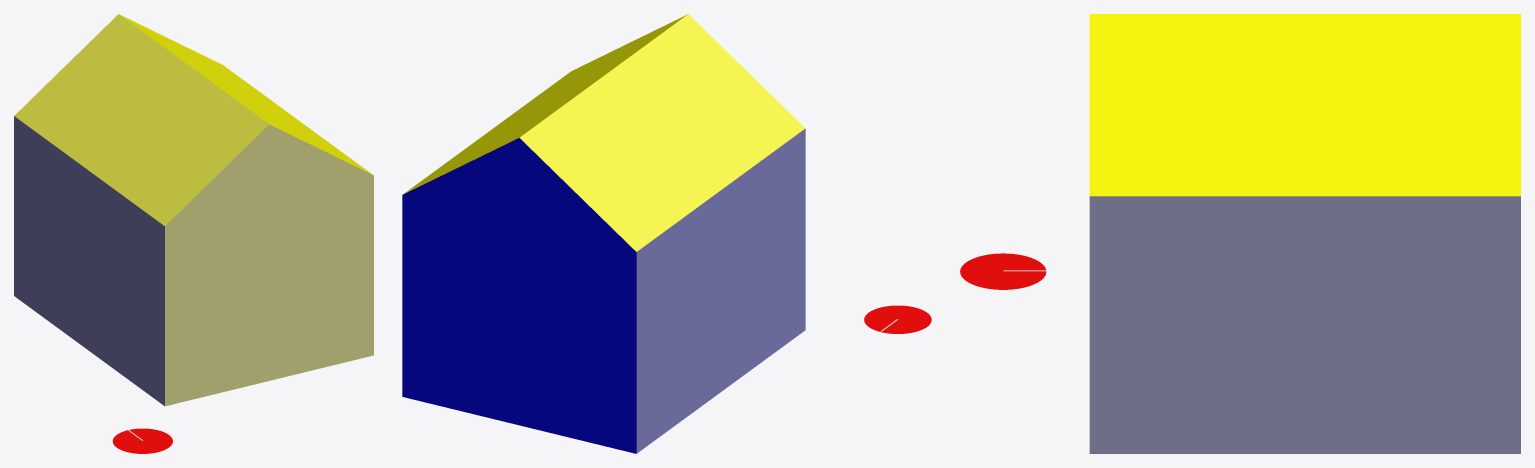
File: result.glb
3 renders of one model, left to right at view 1: azimuth 30°, elevation 25°; view 2: azimuth 150°, elevation 25°; view 3: azimuth 270°, elevation 25°, orthographic. The views are drawn at different scales.
Parts seen in each view (by area): view 1: eb8a7a4b-dcf3-4434-8c5f-c90fac38c3a5__undefined, 21fba045-0c0c-4ac3-8273-d1c0692a909c__undefined, 66b44411-12a8-42d2-9d8c-b952602b70ae__undefined, d56c3455-8726-4a6e-92ce-e7a701f5f81c__undefined, 375bd59d-8618-48ff-823e-e719947021c7__Circle; view 2: e266c11a-3aa3-40e5-b649-d61cb92e7492__undefined, 21fba045-0c0c-4ac3-8273-d1c0692a909c__undefined, 66b44411-12a8-42d2-9d8c-b952602b70ae__undefined, d56c3455-8726-4a6e-92ce-e7a701f5f81c__undefined, 375bd59d-8618-48ff-823e-e719947021c7__Circle; view 3: bd1a2907-eeed-4ebe-ba7a-02703369f2ff__undefined, d56c3455-8726-4a6e-92ce-e7a701f5f81c__undefined, 375bd59d-8618-48ff-823e-e719947021c7__Circle.
Part boxes in pixels (<box>): eb8a7a4b-dcf3-4434-8c5f-c90fac38c3a5__undefined: <box>165,124,373,406</box>; 21fba045-0c0c-4ac3-8273-d1c0692a909c__undefined: <box>14,116,164,405</box>; 66b44411-12a8-42d2-9d8c-b952602b70ae__undefined: <box>14,14,268,225</box>; d56c3455-8726-4a6e-92ce-e7a701f5f81c__undefined: <box>119,14,372,174</box>; 375bd59d-8618-48ff-823e-e719947021c7__Circle: <box>112,428,172,453</box>; e266c11a-3aa3-40e5-b649-d61cb92e7492__undefined: <box>402,138,636,453</box>; 21fba045-0c0c-4ac3-8273-d1c0692a909c__undefined: <box>636,128,805,453</box>; 66b44411-12a8-42d2-9d8c-b952602b70ae__undefined: <box>519,14,805,251</box>; d56c3455-8726-4a6e-92ce-e7a701f5f81c__undefined: <box>403,14,687,194</box>; 375bd59d-8618-48ff-823e-e719947021c7__Circle: <box>864,305,931,333</box>; bd1a2907-eeed-4ebe-ba7a-02703369f2ff__undefined: <box>1089,196,1520,453</box>; d56c3455-8726-4a6e-92ce-e7a701f5f81c__undefined: <box>1089,14,1520,196</box>; 375bd59d-8618-48ff-823e-e719947021c7__Circle: <box>960,253,1046,289</box>.
Size of the model in its own units: 550 by 469 by 650.
